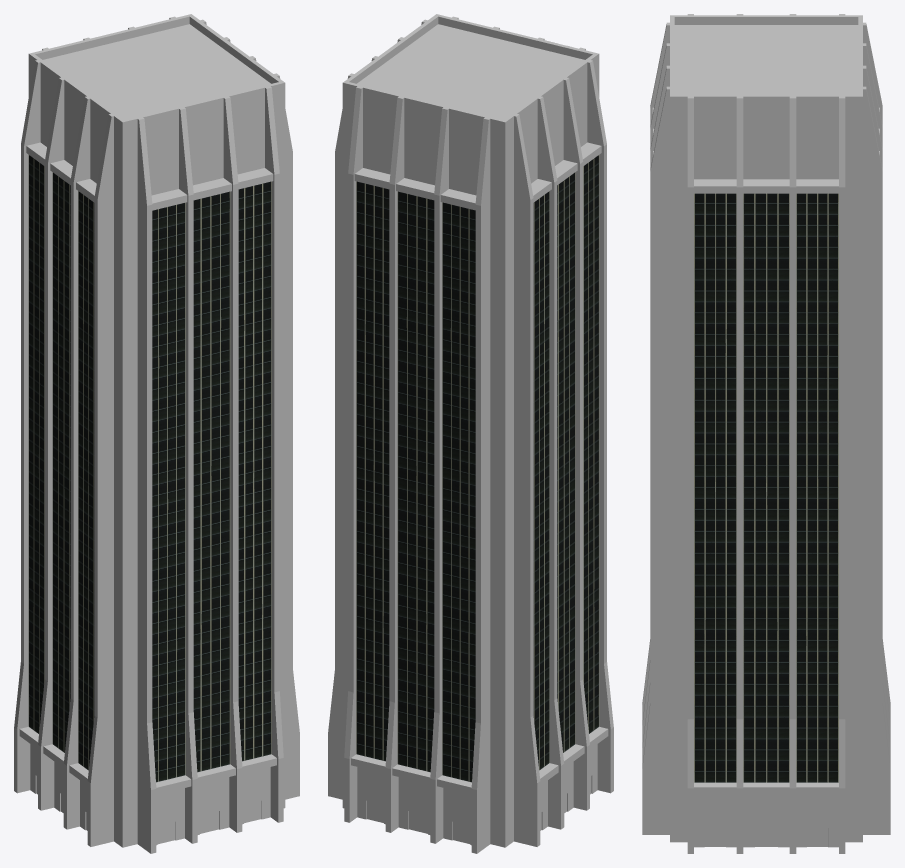
3 views of the same model, side by side, from view 1: azimuth 30°, elevation 25°; view 2: azimuth 150°, elevation 25°; view 3: azimuth 270°, elevation 25° (orthographic). The views are drawn at different scales.
Visible parts, largest first — view 1: BC-046; view 2: BC-046; view 3: BC-046.
Part boxes in pixels (x1=…): BC-046: x1=14, y1=14, x2=299, y2=853; BC-046: x1=328, y1=14, x2=613, y2=853; BC-046: x1=642, y1=14, x2=890, y2=853.
Size of what is drawn, in the model's own units: 30.86 by 102 by 30.86.
